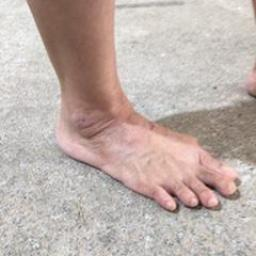Lateral View -Right Foot-: (42, 65, 246, 225)
